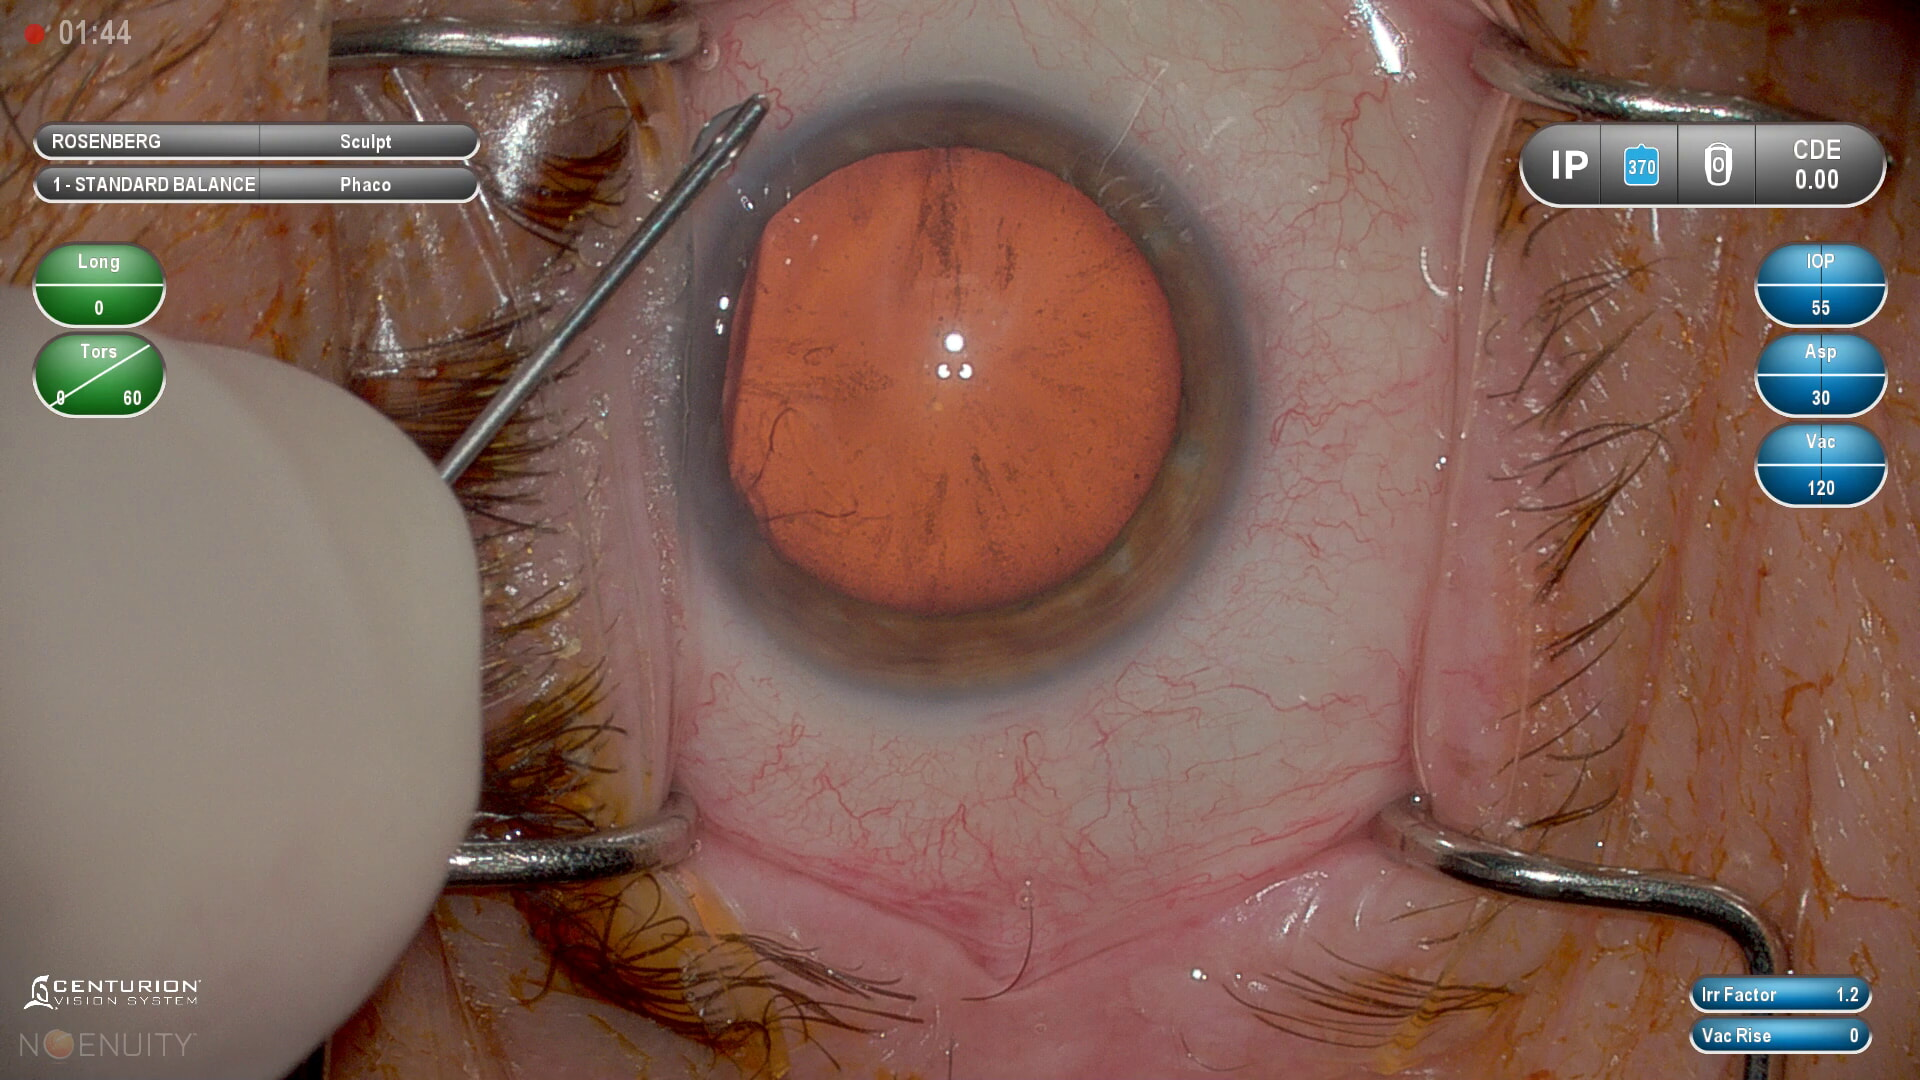iris: (686, 104, 1233, 687)
pupil: (722, 146, 1189, 609)
